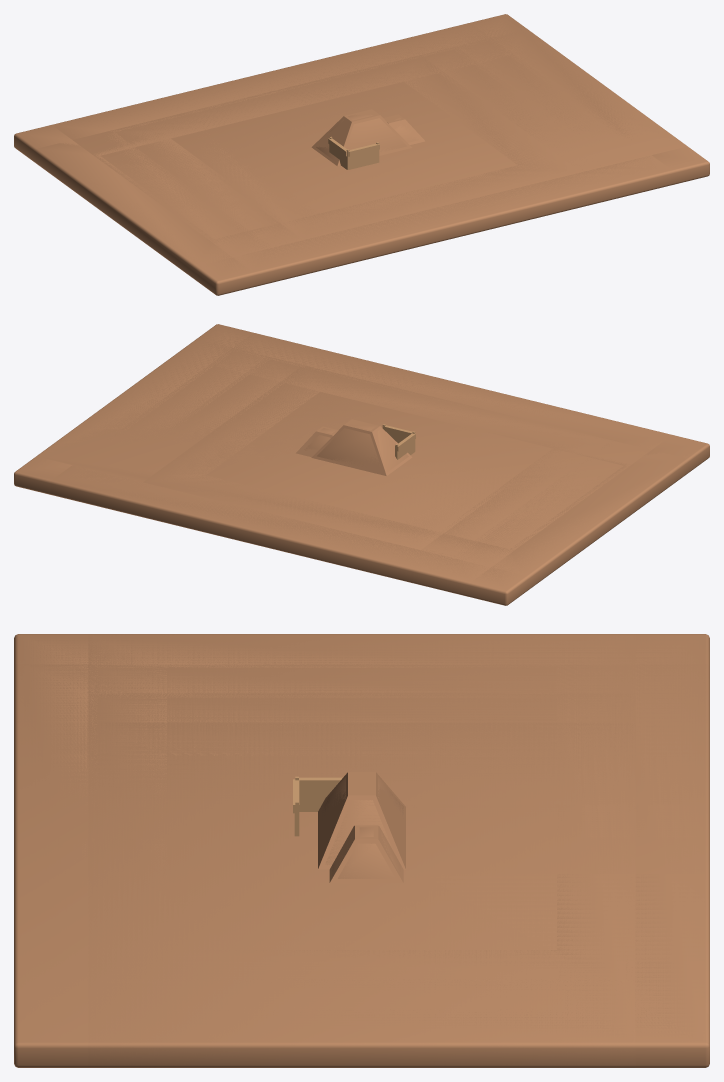
File: BLD_SITEWORK_A_v003.glb
3 renders of one model, top to bottom at view 1: azimuth 30°, elevation 25°; view 2: azimuth 150°, elevation 25°; view 3: azimuth 270°, elevation 25°, orthographic. The views are drawn at different scales.
Visible parts, largest first — view 1: BLD_SITEWORK_A_PLOT_2X2, BLD_SITEWORK_A_PIT_4X3, BLD_SITEWORK_A_PIT_5X3, BLD_SITEWORK_A_PLOT_4X2, BLD_SITEWORK_A_PIT_2X2, BLD_SITEWORK_A_PIT_5X2, BLD_SITEWORK_A_PLOT_5X3, BLD_SITEWORK_A_PIT_3X2, BLD_SITEWORK_A_PLOT_4X3, BLD_SITEWORK_A_PLOT_5X2, BLD_SITEWORK_A_PLOT_3X2, BLD_SITEWORK_A_PIT_4X2 (+3 smaller); view 2: BLD_SITEWORK_A_PIT_4X3, BLD_SITEWORK_A_PLOT_2X2, BLD_SITEWORK_A_PLOT_4X2, BLD_SITEWORK_A_PIT_5X2, BLD_SITEWORK_A_PIT_3X2, BLD_SITEWORK_A_PLOT_4X3, BLD_SITEWORK_A_PIT_2X2, BLD_SITEWORK_A_PIT_5X3, BLD_SITEWORK_A_PLOT_5X2, BLD_SITEWORK_A_PLOT_5X3, BLD_SITEWORK_A_PLOT_3X2, BLD_SITEWORK_A_PIT_4X2 (+3 smaller); view 3: BLD_SITEWORK_A_PLOT_5X2, BLD_SITEWORK_A_PLOT_5X3, BLD_SITEWORK_A_PIT_5X2, BLD_SITEWORK_A_PIT_5X3, BLD_SITEWORK_A_PIT_3X2, BLD_SITEWORK_A_PLOT_2X2, BLD_SITEWORK_A_PIT_4X3, BLD_SITEWORK_A_PIT_4X2, BLD_SITEWORK_A_PIT_2X2, BLD_SITEWORK_A_PLOT_3X2, BLD_SITEWORK_A_PLOT_4X3, BLD_SITEWORK_A_SPOIL_HEAP_LOW (+3 smaller).
Boxes of the visible parts, box(x1,y1,x2,y2) form: BLD_SITEWORK_A_PLOT_2X2: box(187, 57, 579, 239); BLD_SITEWORK_A_PIT_4X3: box(52, 23, 670, 286); BLD_SITEWORK_A_PIT_5X3: box(14, 14, 709, 295); BLD_SITEWORK_A_PLOT_4X2: box(73, 40, 576, 256); BLD_SITEWORK_A_PIT_2X2: box(190, 55, 580, 239); BLD_SITEWORK_A_PIT_5X2: box(35, 29, 685, 275); BLD_SITEWORK_A_PLOT_5X3: box(14, 14, 709, 284); BLD_SITEWORK_A_PIT_3X2: box(110, 47, 587, 247); BLD_SITEWORK_A_PLOT_4X3: box(52, 22, 672, 275); BLD_SITEWORK_A_PLOT_5X2: box(41, 29, 687, 263); BLD_SITEWORK_A_PLOT_3X2: box(116, 49, 577, 242); BLD_SITEWORK_A_PIT_4X2: box(73, 38, 587, 257); BLD_SITEWORK_A_PIT_4X3: box(50, 333, 671, 596); BLD_SITEWORK_A_PLOT_2X2: box(144, 369, 518, 549); BLD_SITEWORK_A_PLOT_4X2: box(170, 354, 650, 566); BLD_SITEWORK_A_PIT_5X2: box(38, 339, 688, 589); BLD_SITEWORK_A_PIT_3X2: box(158, 357, 614, 557); BLD_SITEWORK_A_PLOT_4X3: box(50, 332, 670, 595); BLD_SITEWORK_A_PIT_2X2: box(143, 365, 553, 549); BLD_SITEWORK_A_PIT_5X3: box(14, 324, 709, 605); BLD_SITEWORK_A_PLOT_5X2: box(36, 339, 680, 574); BLD_SITEWORK_A_PLOT_5X3: box(14, 324, 706, 602); BLD_SITEWORK_A_PLOT_3X2: box(164, 359, 604, 556); BLD_SITEWORK_A_PIT_4X2: box(155, 348, 650, 567); BLD_SITEWORK_A_PLOT_5X2: box(88, 634, 635, 1048); BLD_SITEWORK_A_PLOT_5X3: box(14, 634, 709, 1065); BLD_SITEWORK_A_PIT_5X2: box(88, 634, 635, 1067); BLD_SITEWORK_A_PIT_5X3: box(14, 634, 709, 1067); BLD_SITEWORK_A_PIT_3X2: box(88, 693, 635, 982); BLD_SITEWORK_A_PLOT_2X2: box(89, 722, 635, 952); BLD_SITEWORK_A_PIT_4X3: box(16, 664, 709, 1012); BLD_SITEWORK_A_PIT_4X2: box(88, 664, 635, 1012); BLD_SITEWORK_A_PIT_2X2: box(88, 722, 635, 953); BLD_SITEWORK_A_PLOT_3X2: box(88, 693, 635, 983); BLD_SITEWORK_A_PLOT_4X3: box(14, 664, 709, 1016); BLD_SITEWORK_A_SPOIL_HEAP_LOW: box(318, 772, 405, 883).
Size of the model in its own units: 21 by 1.9 by 15.
